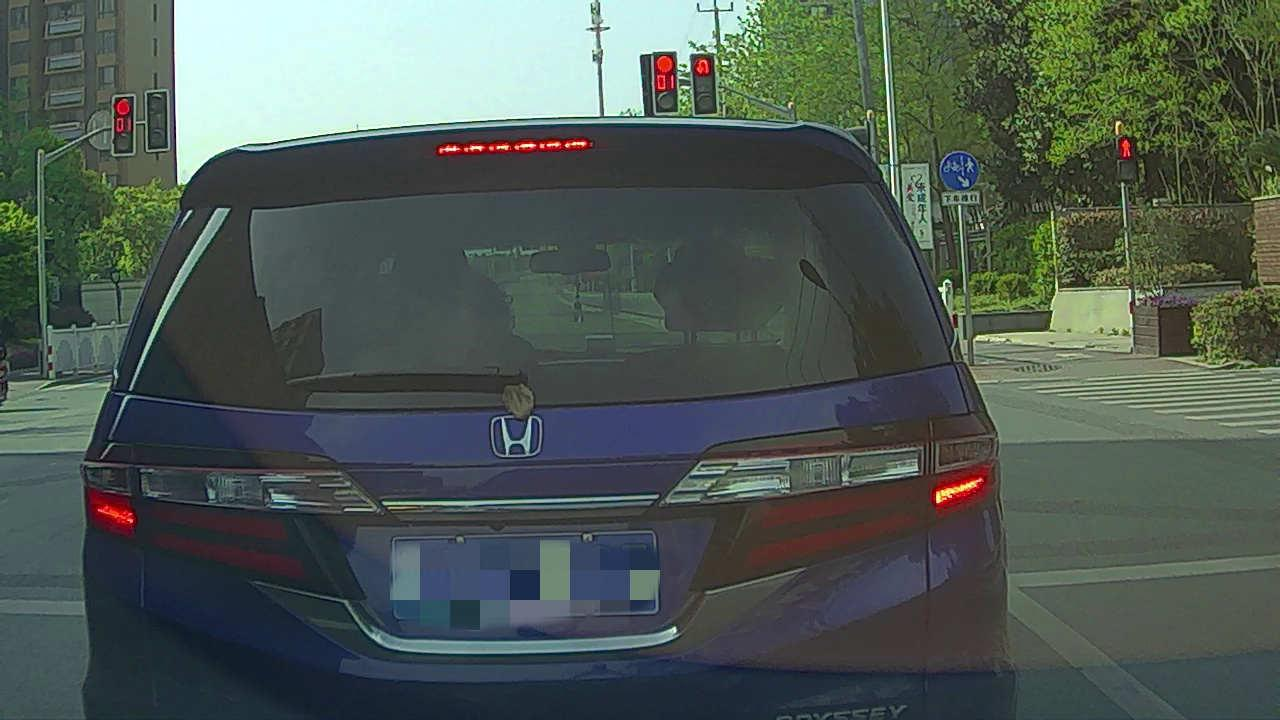traffic_light: (653, 52, 678, 117), (692, 55, 716, 116), (147, 94, 168, 151), (114, 96, 134, 155)
